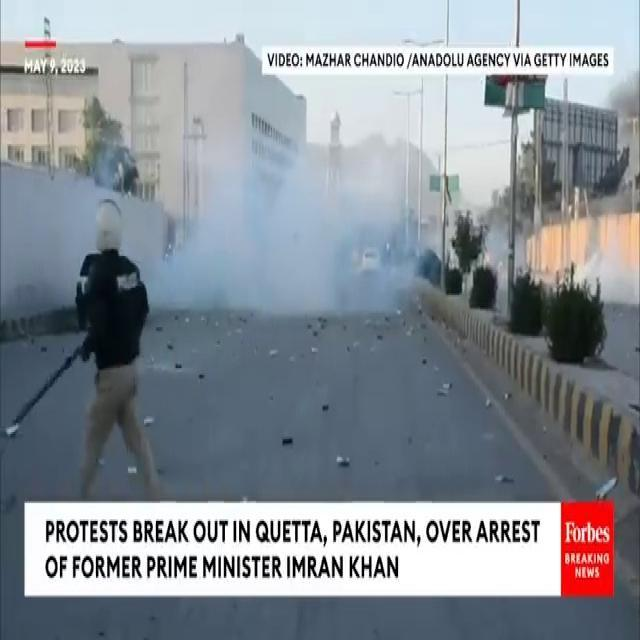Smoke: (121, 109, 409, 323)
